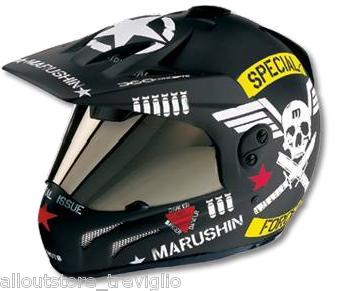helmet: (44, 17, 312, 252)
